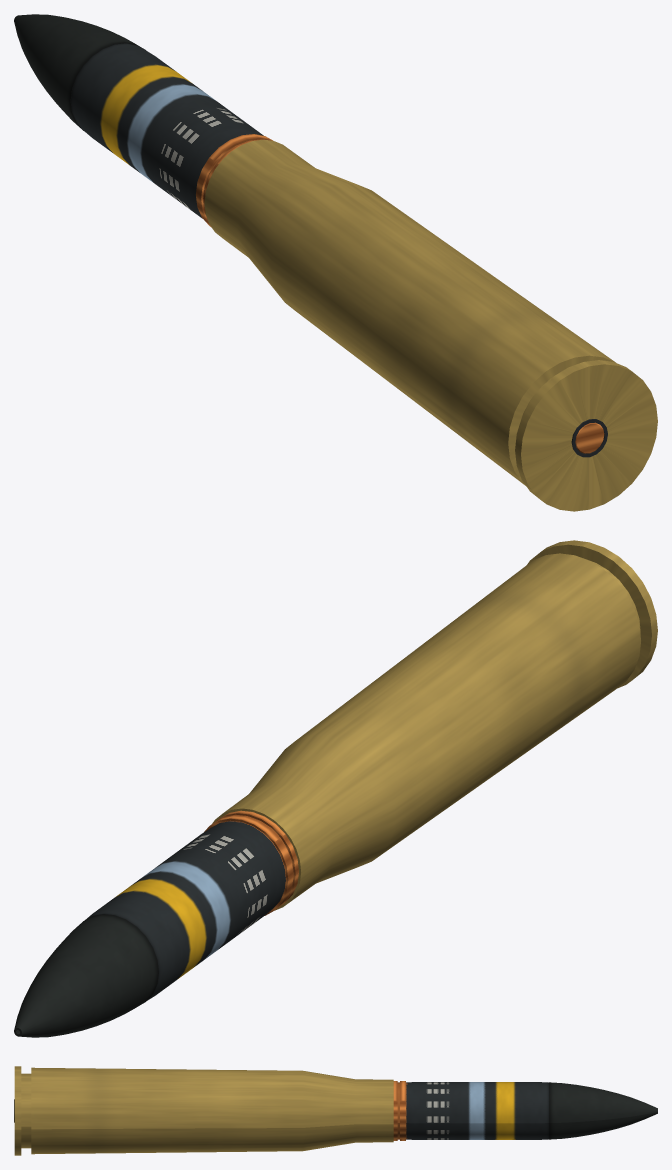
Rendered from skyshield_ammo_35mm_ahead_cartridge.glb.
3 views of the same model, one above another, from view 1: azimuth 30°, elevation 25°; view 2: azimuth 150°, elevation 25°; view 3: azimuth 270°, elevation 25° (orthographic). The views are drawn at different scales.
Visible parts, largest first — view 1: Skyshield_Ammo_35mm_AHEAD_Cartridge_Case, Skyshield_Ammo_35mm_AHEAD_Cartridge_Projectile, Skyshield_Ammo_35mm_AHEAD_Cartridge_Driving_Band; view 2: Skyshield_Ammo_35mm_AHEAD_Cartridge_Case, Skyshield_Ammo_35mm_AHEAD_Cartridge_Projectile, Skyshield_Ammo_35mm_AHEAD_Cartridge_Driving_Band; view 3: Skyshield_Ammo_35mm_AHEAD_Cartridge_Case, Skyshield_Ammo_35mm_AHEAD_Cartridge_Projectile, Skyshield_Ammo_35mm_AHEAD_Cartridge_Driving_Band.
Boxes of the visible parts, x1=… form: Skyshield_Ammo_35mm_AHEAD_Cartridge_Case: x1=204, y1=139, x2=657, y2=511; Skyshield_Ammo_35mm_AHEAD_Cartridge_Projectile: x1=14, y1=14, x2=263, y2=218; Skyshield_Ammo_35mm_AHEAD_Cartridge_Driving_Band: x1=196, y1=134, x2=272, y2=227; Skyshield_Ammo_35mm_AHEAD_Cartridge_Case: x1=212, y1=540, x2=657, y2=910; Skyshield_Ammo_35mm_AHEAD_Cartridge_Projectile: x1=14, y1=817, x2=293, y2=1037; Skyshield_Ammo_35mm_AHEAD_Cartridge_Driving_Band: x1=204, y1=810, x2=298, y2=915; Skyshield_Ammo_35mm_AHEAD_Cartridge_Case: x1=14, y1=1066, x2=393, y2=1155; Skyshield_Ammo_35mm_AHEAD_Cartridge_Projectile: x1=397, y1=1082, x2=657, y2=1139; Skyshield_Ammo_35mm_AHEAD_Cartridge_Driving_Band: x1=393, y1=1081, x2=405, y2=1140.
Size of the model in its own units: 0.0536 by 0.0536 by 0.3875.
4 materials, 4 textured.
